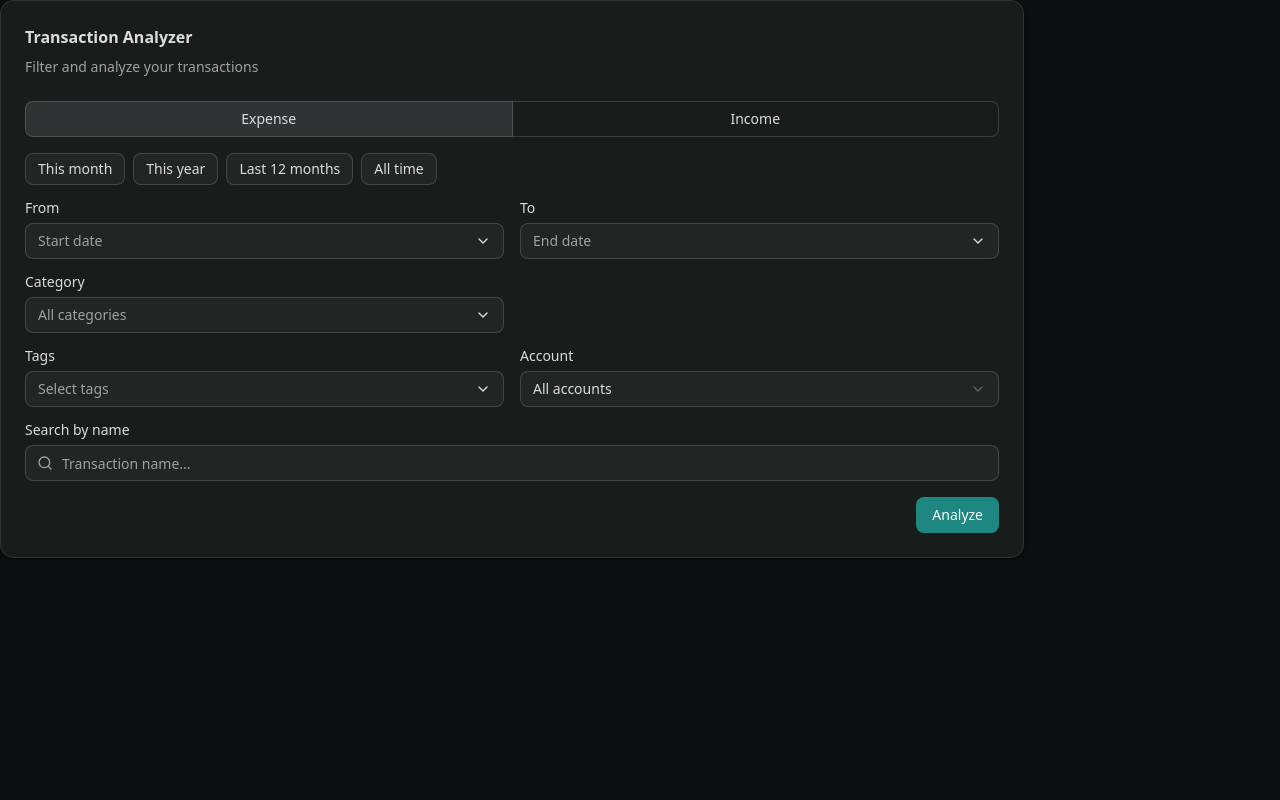
Test: TransactionAnalyzer › happy path — results display › renders summary stats after analyze
This screenshot has width=1280, height=800.
Expected: the text "Total Amount" is not shown
Click the button "Analyze": x=958, y=515 [916,497,999,533]
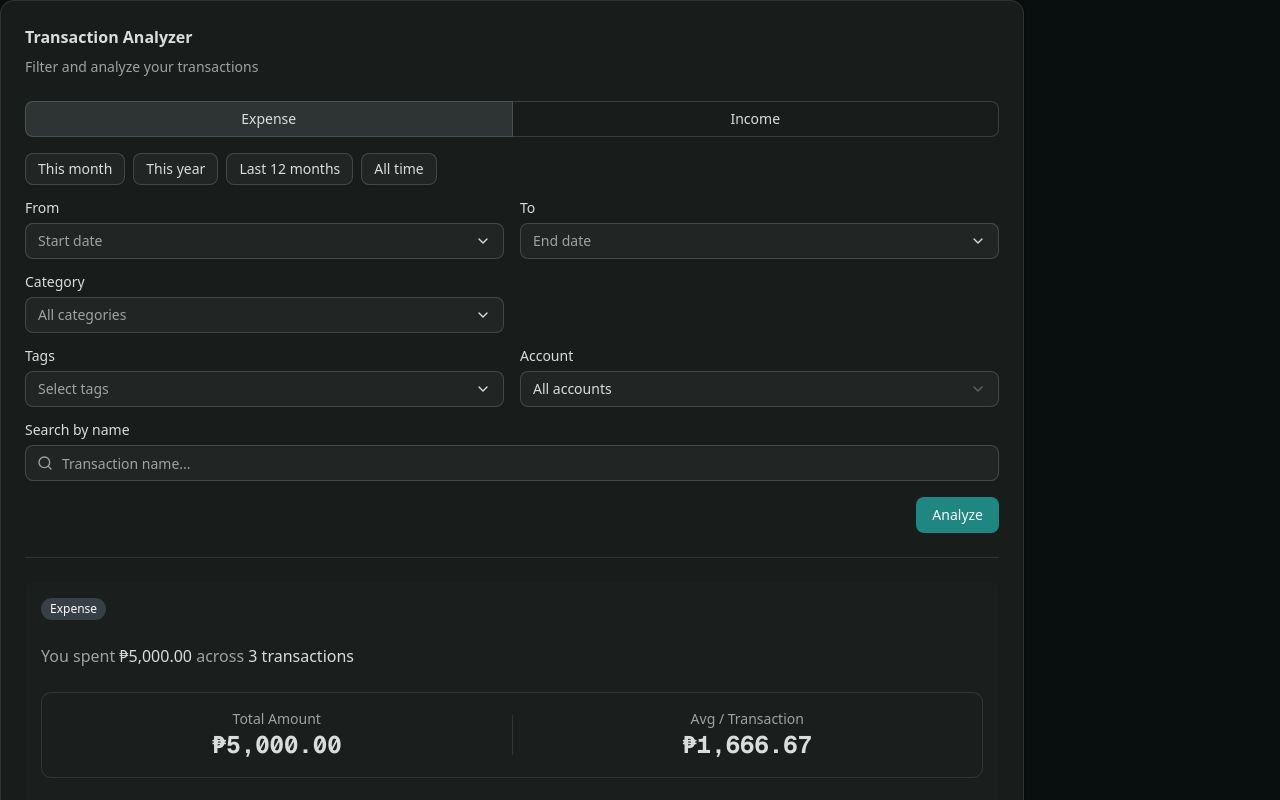
Now the text "Total Amount" is shown, box [233,709,321,728]
